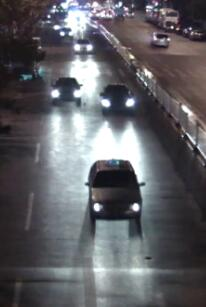bus: (157, 6, 183, 29)
car: (82, 156, 144, 221), (97, 80, 136, 117), (47, 73, 85, 108), (72, 35, 94, 55), (148, 29, 170, 48), (57, 25, 75, 40)
